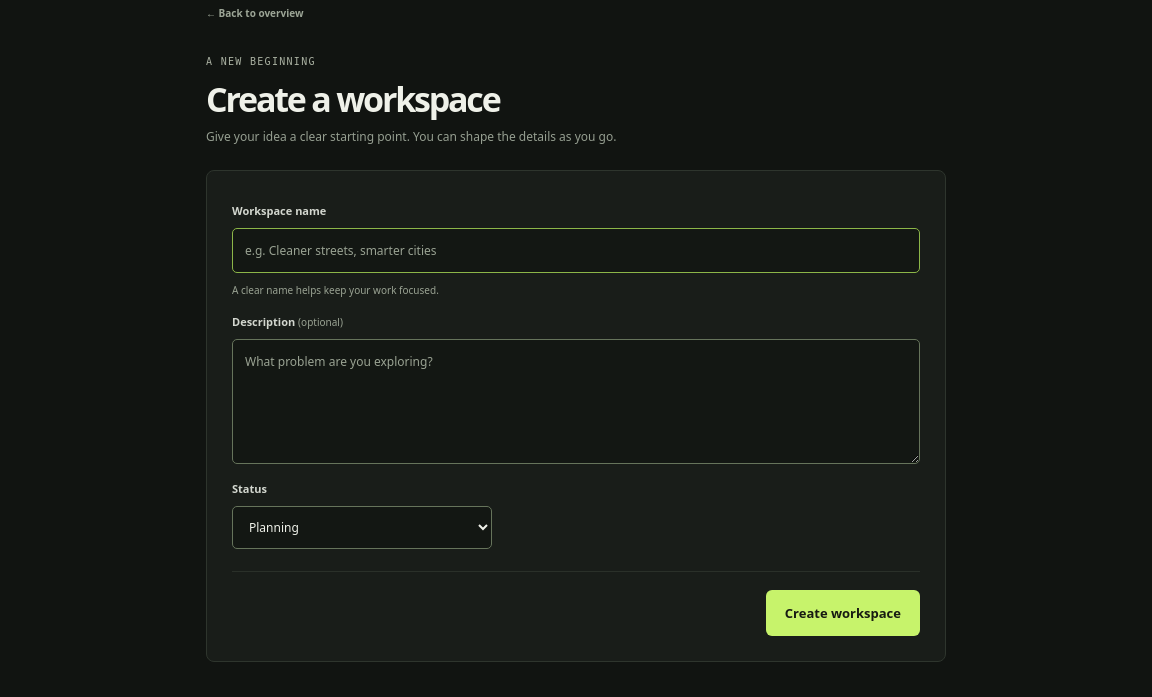
Test case: WorkspacePages › creates a workspace and opens its detail page
Type "Heat-safe neighborhoods" into the field labelled "Workspace name" at coordinates (576, 251), box [232, 228, 920, 273]
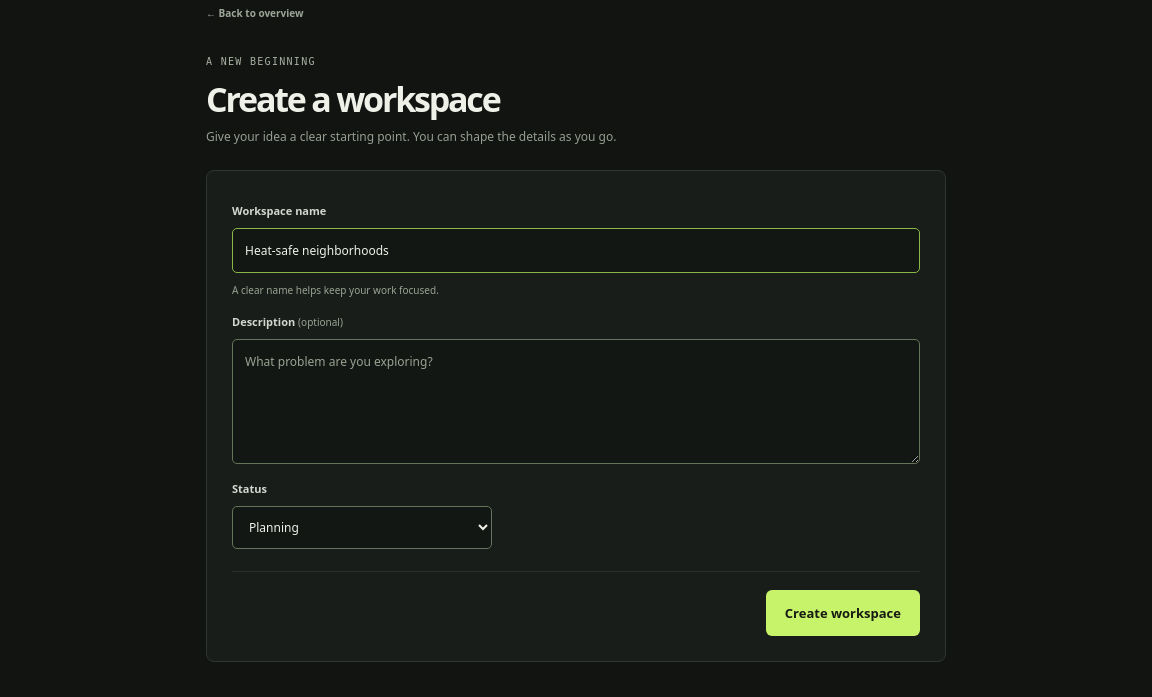
Click the button "Create workspace" at coordinates (843, 613), box [766, 590, 920, 636]
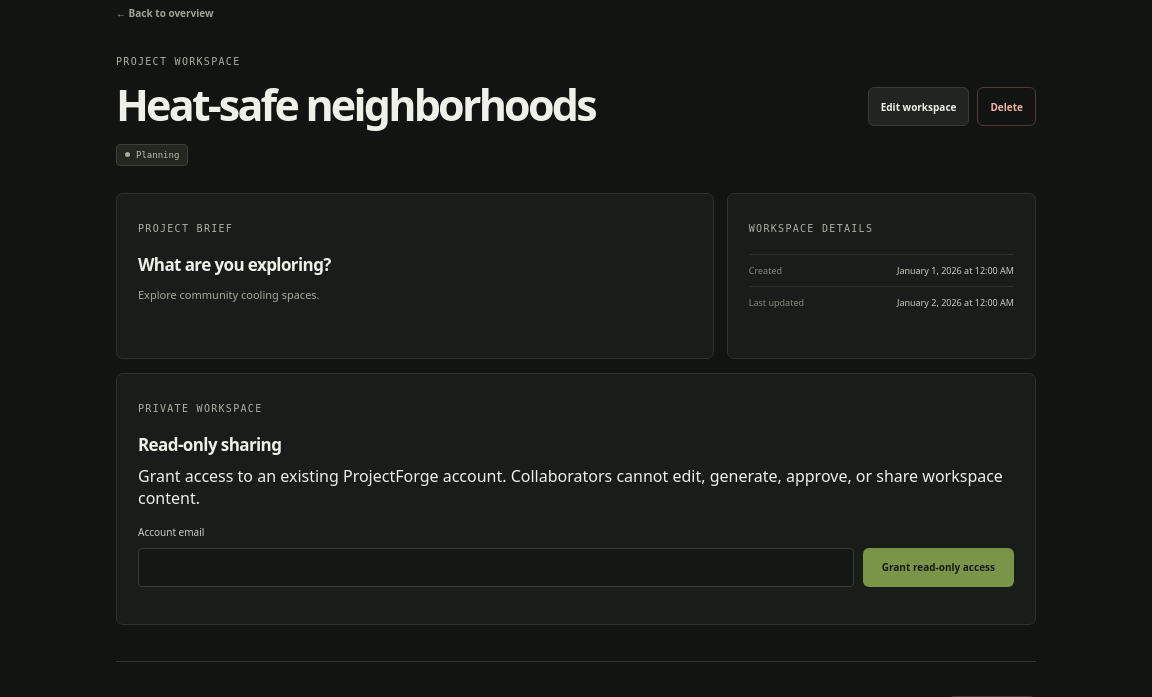
Check: the heading "Heat-safe neighborhoods" is shown, box [116, 80, 595, 129]
